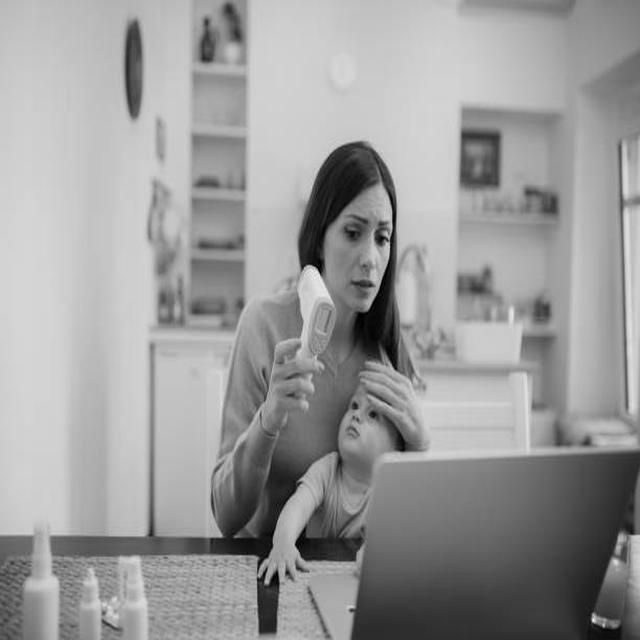Fear: (337, 187, 392, 313)
